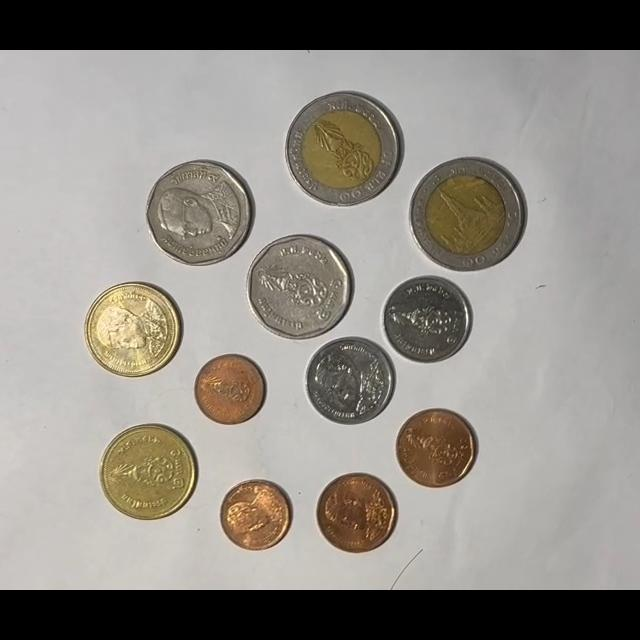1-baht: (382, 276, 472, 365), (305, 337, 395, 426)
10-baht: (285, 91, 403, 208), (409, 157, 526, 271)
2-baht: (99, 424, 197, 521), (84, 282, 180, 378)
25-satang: (220, 479, 293, 552), (194, 354, 265, 425)
5-baht: (146, 160, 254, 267), (247, 234, 353, 340)
50-satang: (316, 472, 398, 554), (395, 408, 476, 488)
